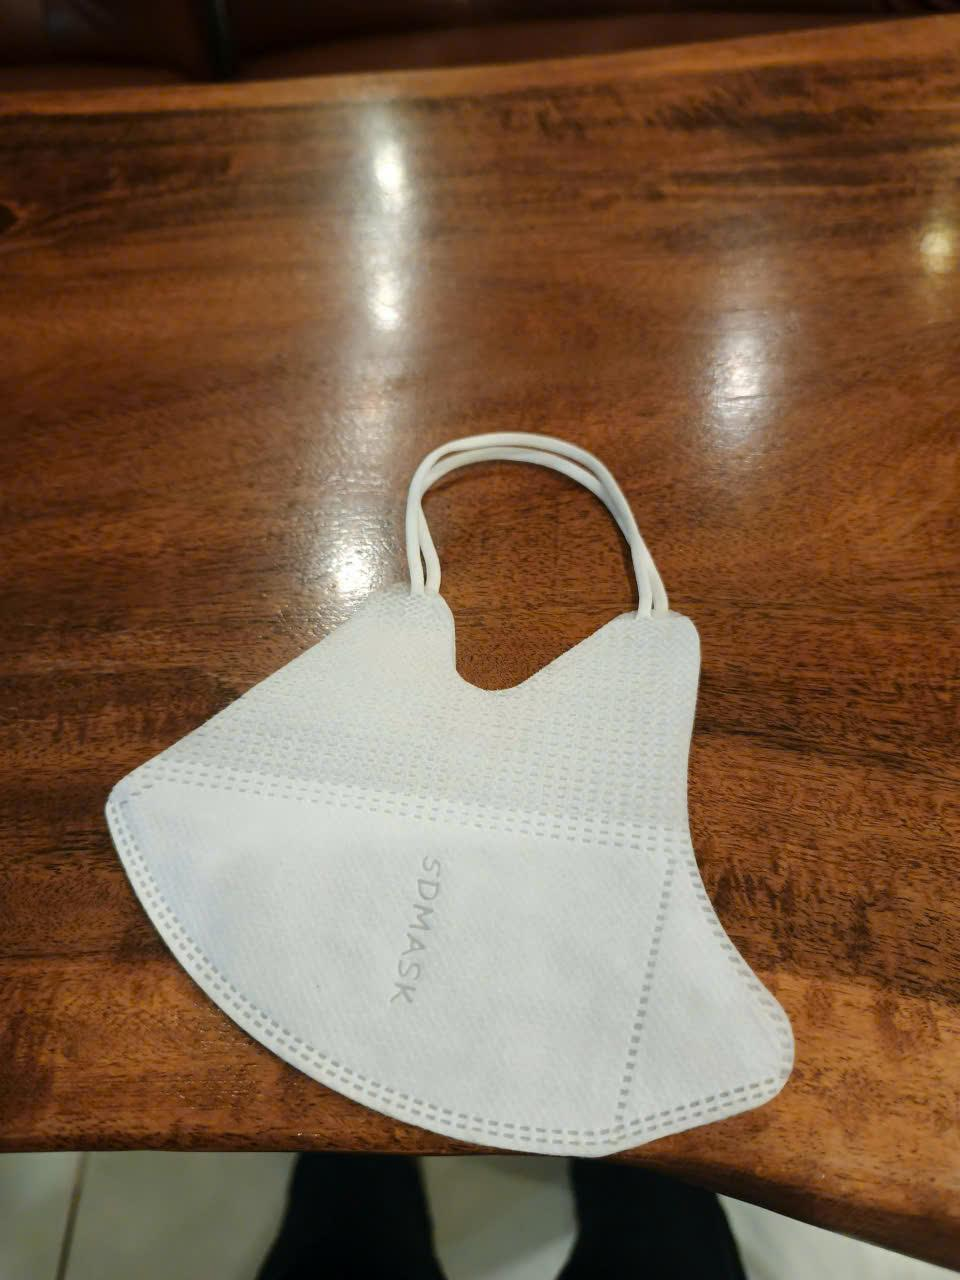Con lai: (100, 425, 802, 1159)
